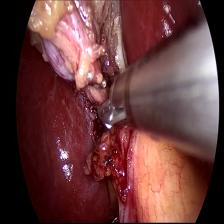Clipper: (94, 58, 154, 136)
